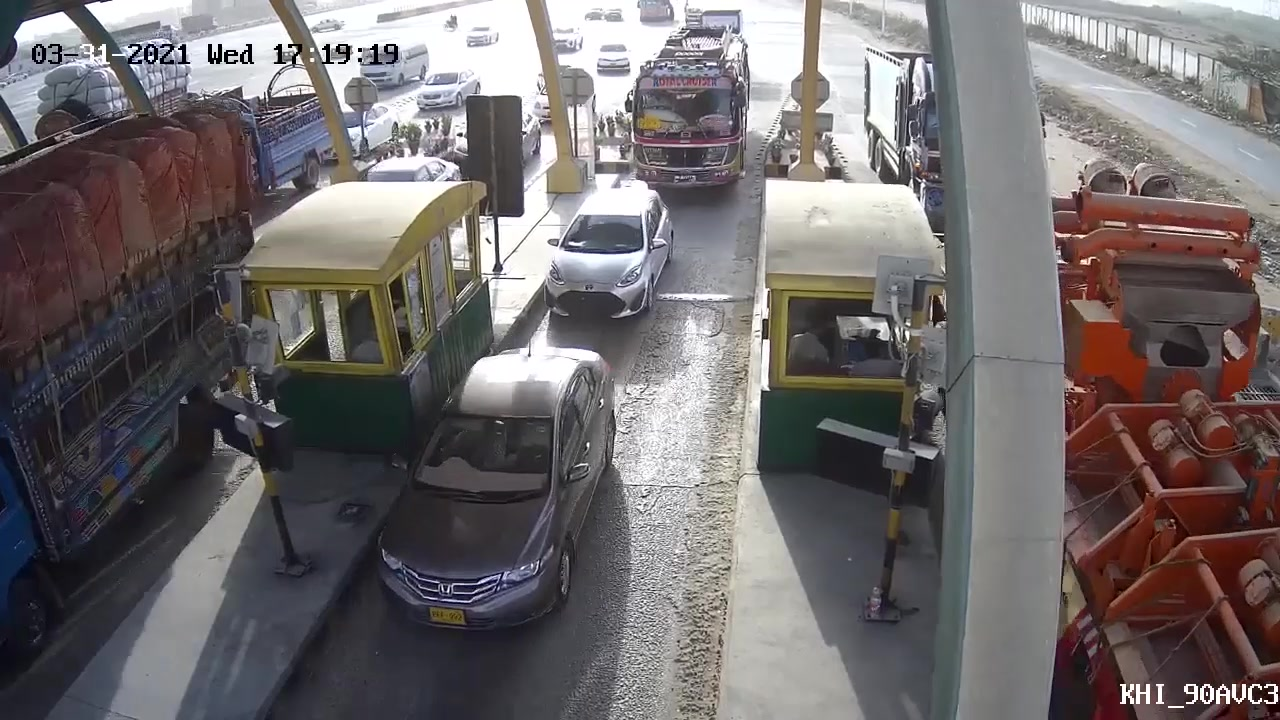F1: (366, 337, 622, 643), (527, 182, 681, 330)
